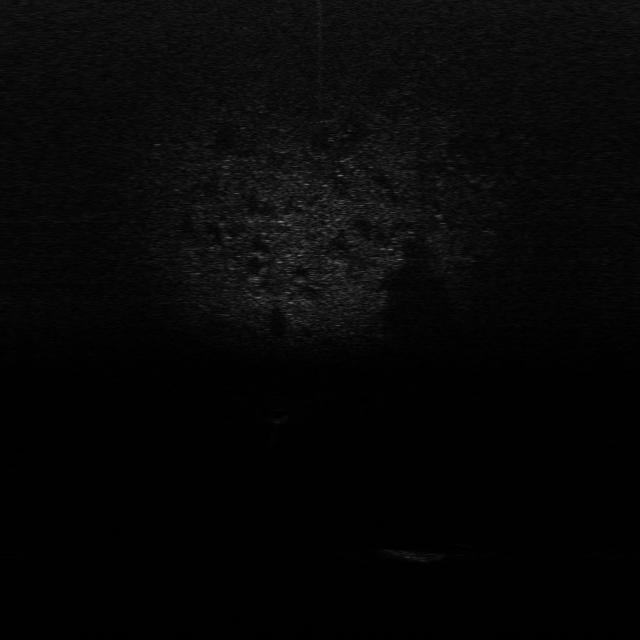ball: (266, 406, 294, 425)
metal bucket: (388, 547, 454, 565)
